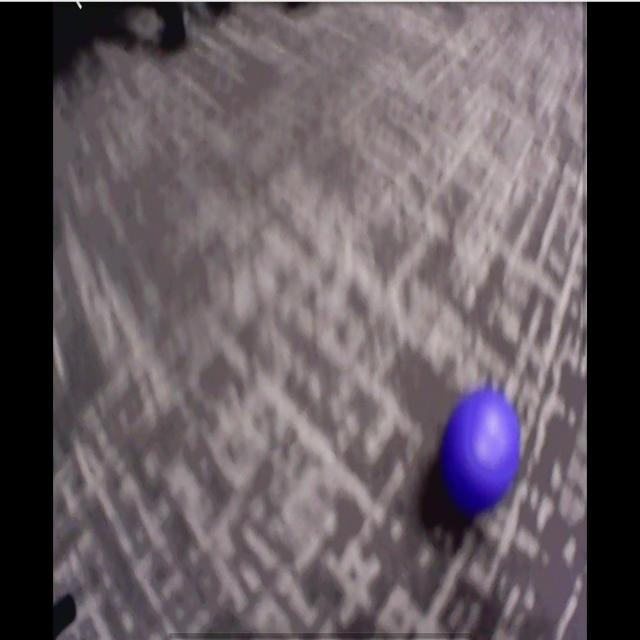ball: (445, 393, 521, 505)
